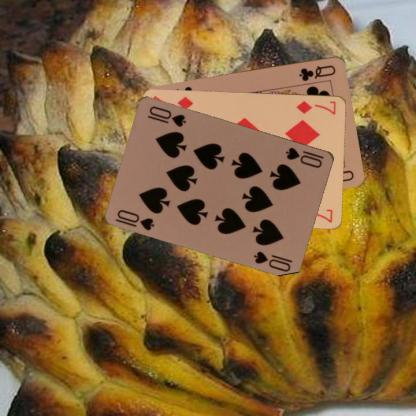10s: (283, 144, 324, 170), (115, 206, 156, 232)
7d: (294, 97, 338, 115)
Qc: (296, 62, 337, 82)
